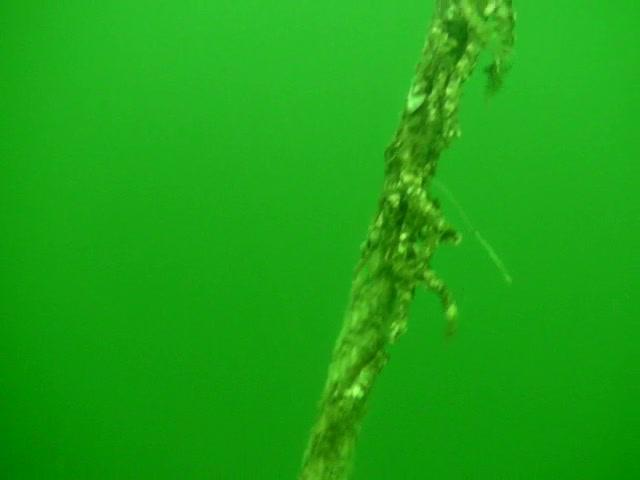rope: (297, 0, 494, 480)
